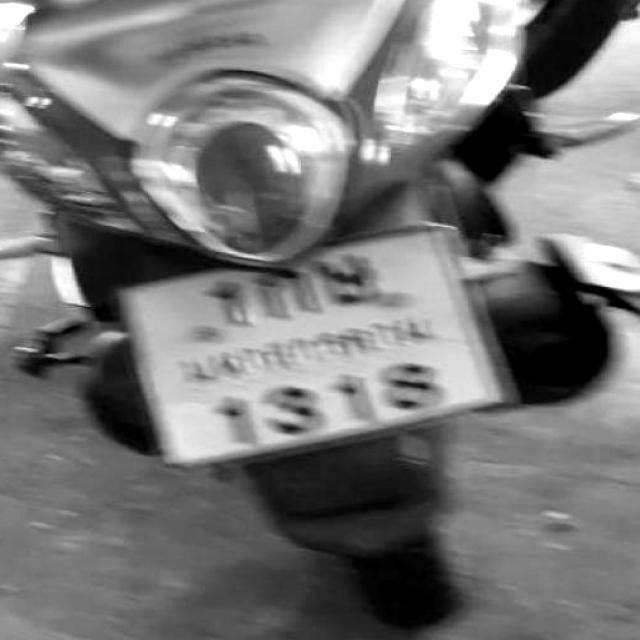letters: (322, 243, 382, 310), (260, 260, 325, 320), (264, 379, 318, 443), (207, 385, 258, 452), (193, 271, 251, 327), (382, 367, 430, 415), (336, 370, 374, 430)
license-plate: (118, 225, 518, 471)
province: (161, 330, 467, 360)
